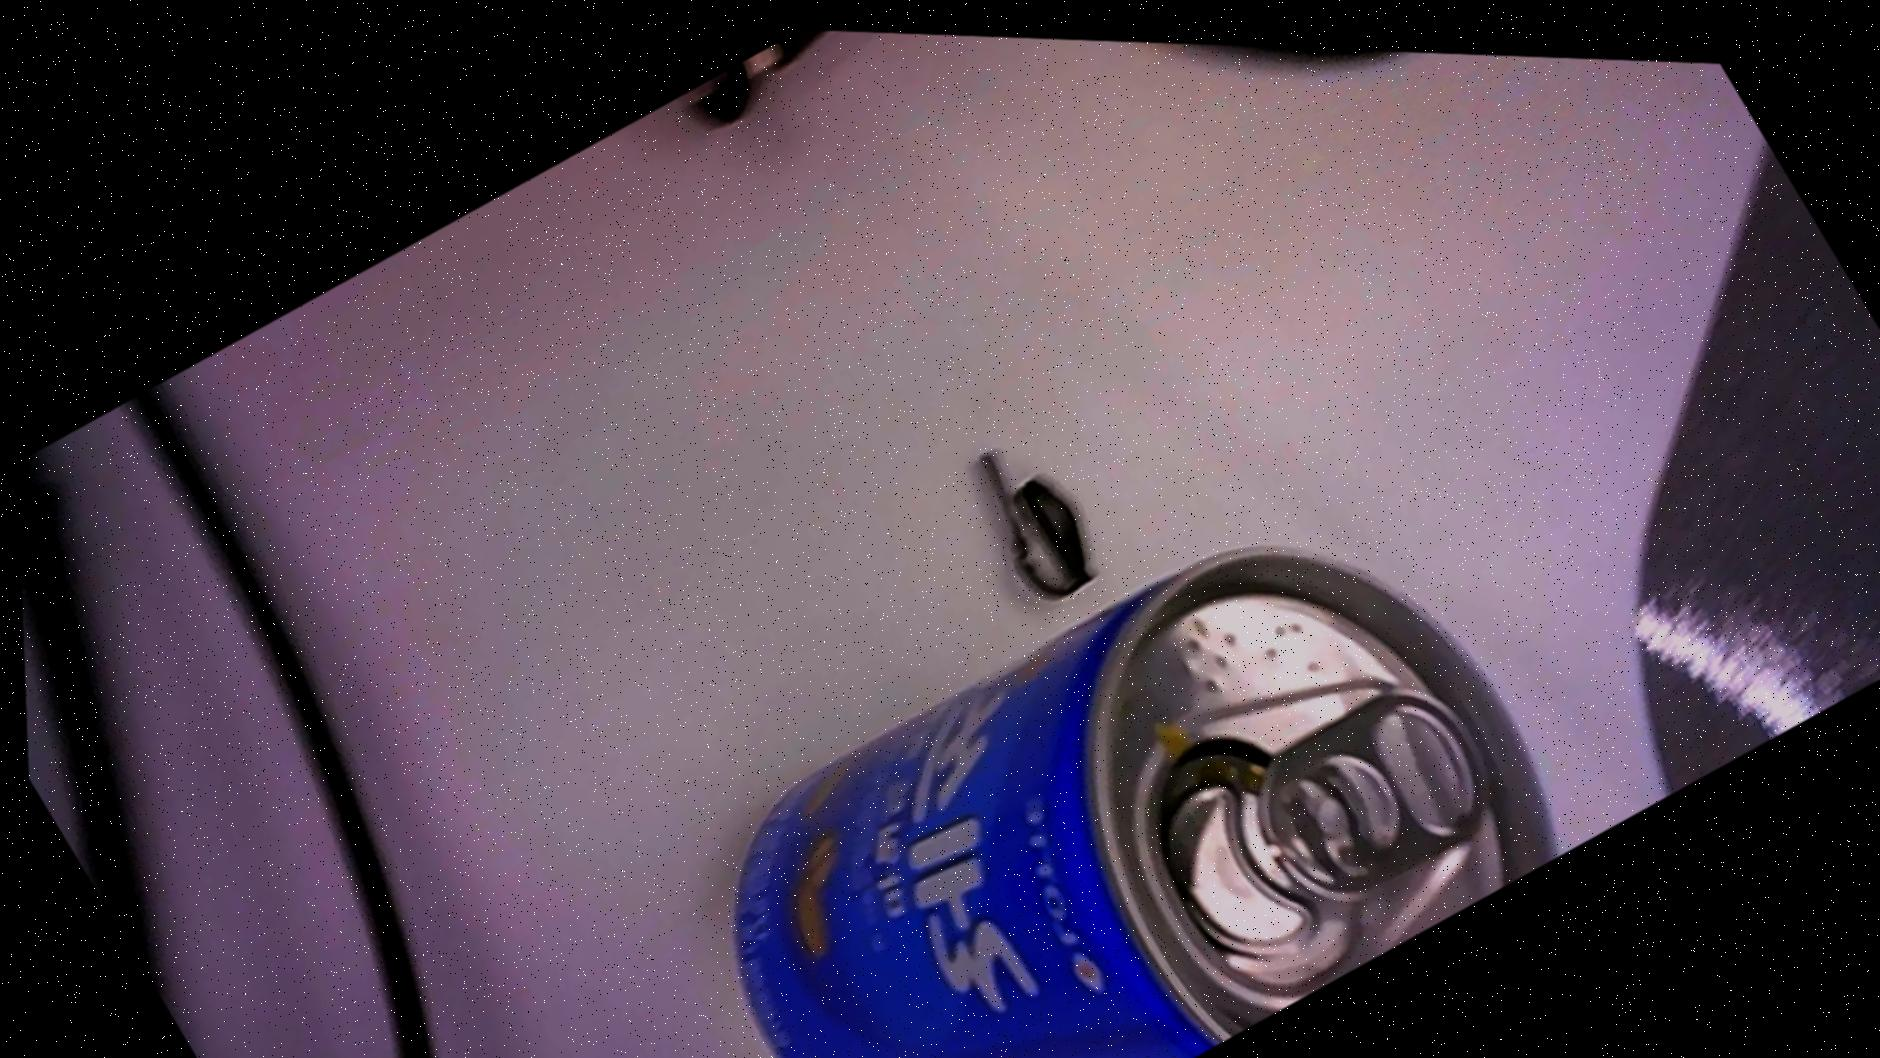letsbe: (631, 431, 1589, 1058)
